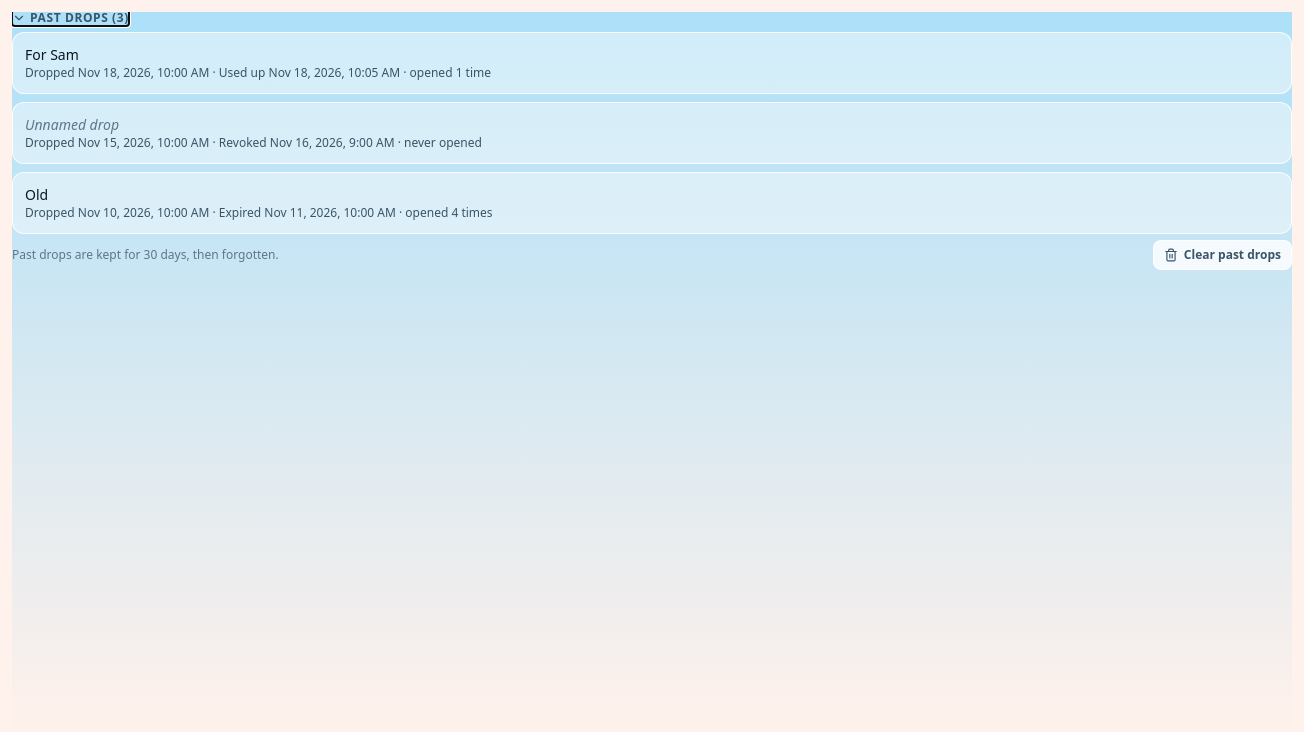
Scenario: SharedLinks › past links › clearing them › shows the refusal when clearing fails
Earlier steps of the test are not shown.
Click the button "Clear past drops". click: point(1222, 255)
box: [1153,240,1292,270]
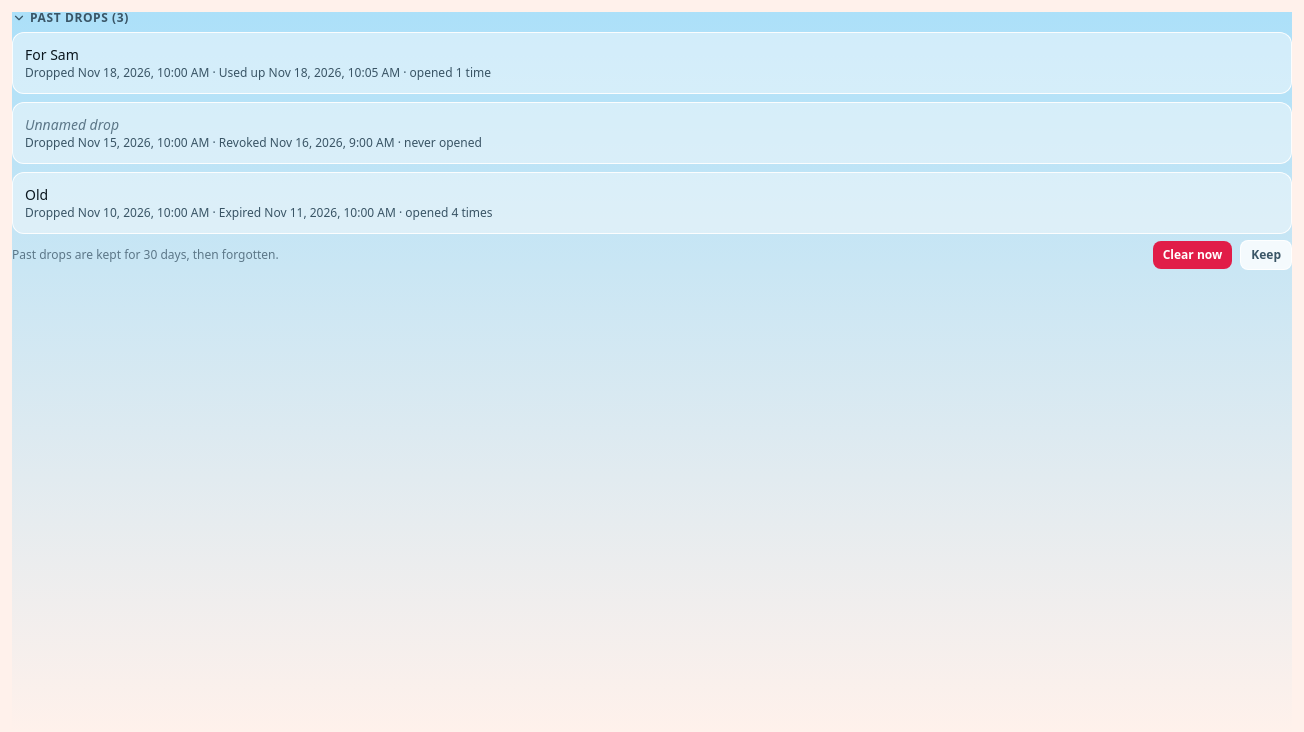
Click the button "Clear now". click: point(1192, 255)
box: [1153,241,1232,269]
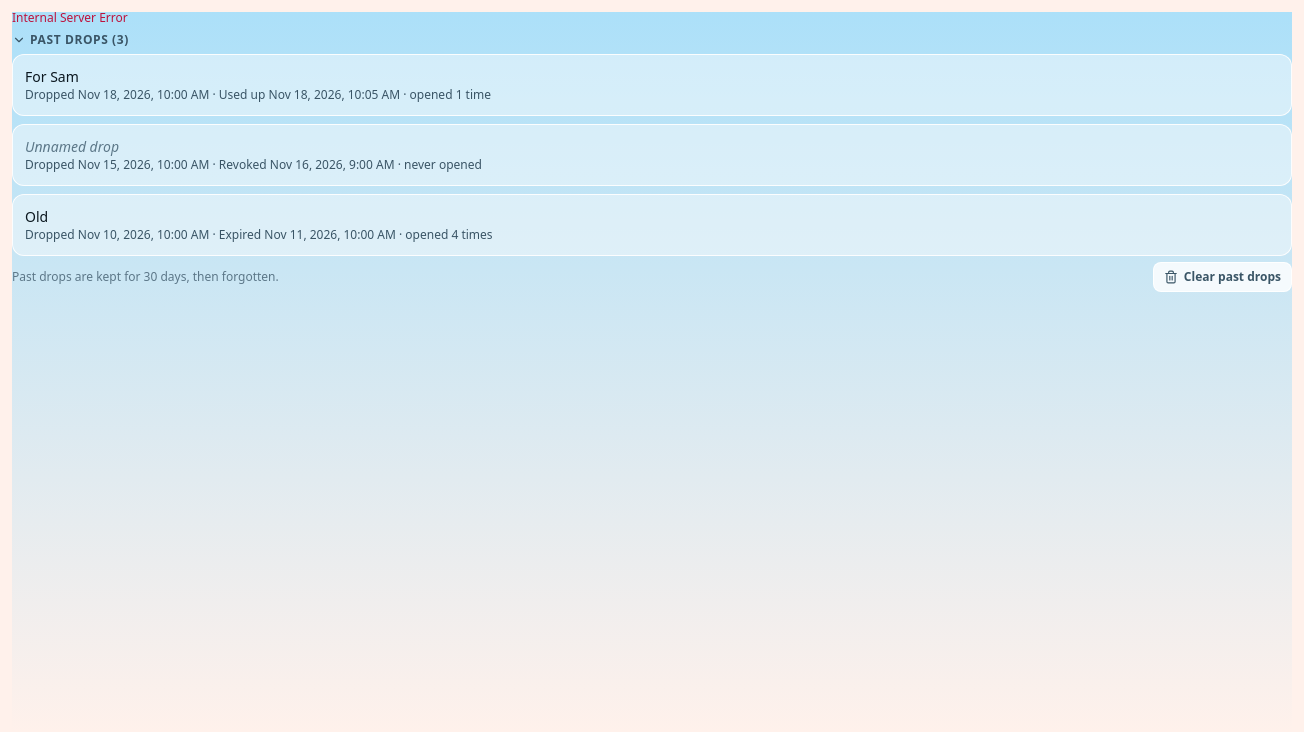
Now the message "Internal Server Error" is shown, box [12,12,128,26]
